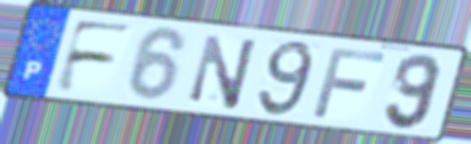6: (124, 25, 192, 106)
9: (254, 38, 318, 119), (384, 51, 444, 132)
F: (50, 17, 137, 95), (310, 45, 389, 120)
N: (186, 32, 261, 112)
